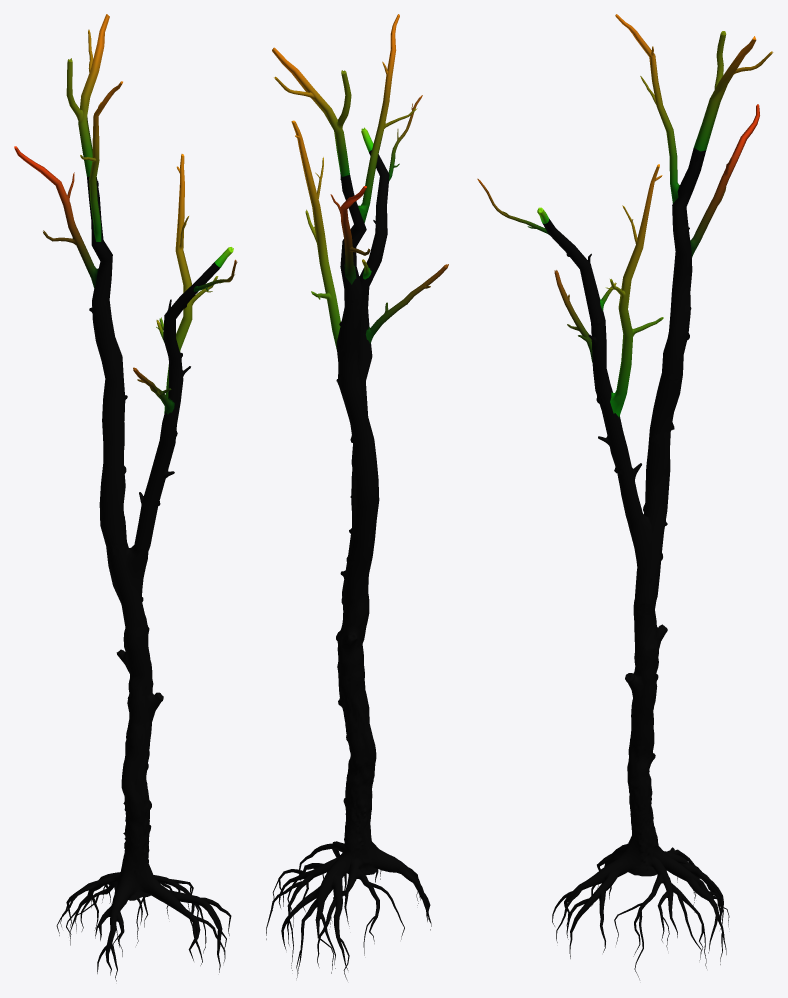
Rendered from SM_EuropeanBeech_Dead_XL_01.fbx.
The picture shows the model from 3 angles, left to right: view 1: azimuth 30°, elevation 25°; view 2: azimuth 150°, elevation 25°; view 3: azimuth 270°, elevation 25°; orthographic projection. The views are drawn at different scales.
Parts seen in each view (by area): view 1: SM_EuropeanBeech_Dead_XL_01_LOD0; view 2: SM_EuropeanBeech_Dead_XL_01_LOD0; view 3: SM_EuropeanBeech_Dead_XL_01_LOD0.
Boxes of the visible parts, x1,y1,x2,y2 form: SM_EuropeanBeech_Dead_XL_01_LOD0: (14,14,237,981); SM_EuropeanBeech_Dead_XL_01_LOD0: (266,14,448,980); SM_EuropeanBeech_Dead_XL_01_LOD0: (477,14,773,979).
Size of the model in its own units: 336 by 600 by 2090.
